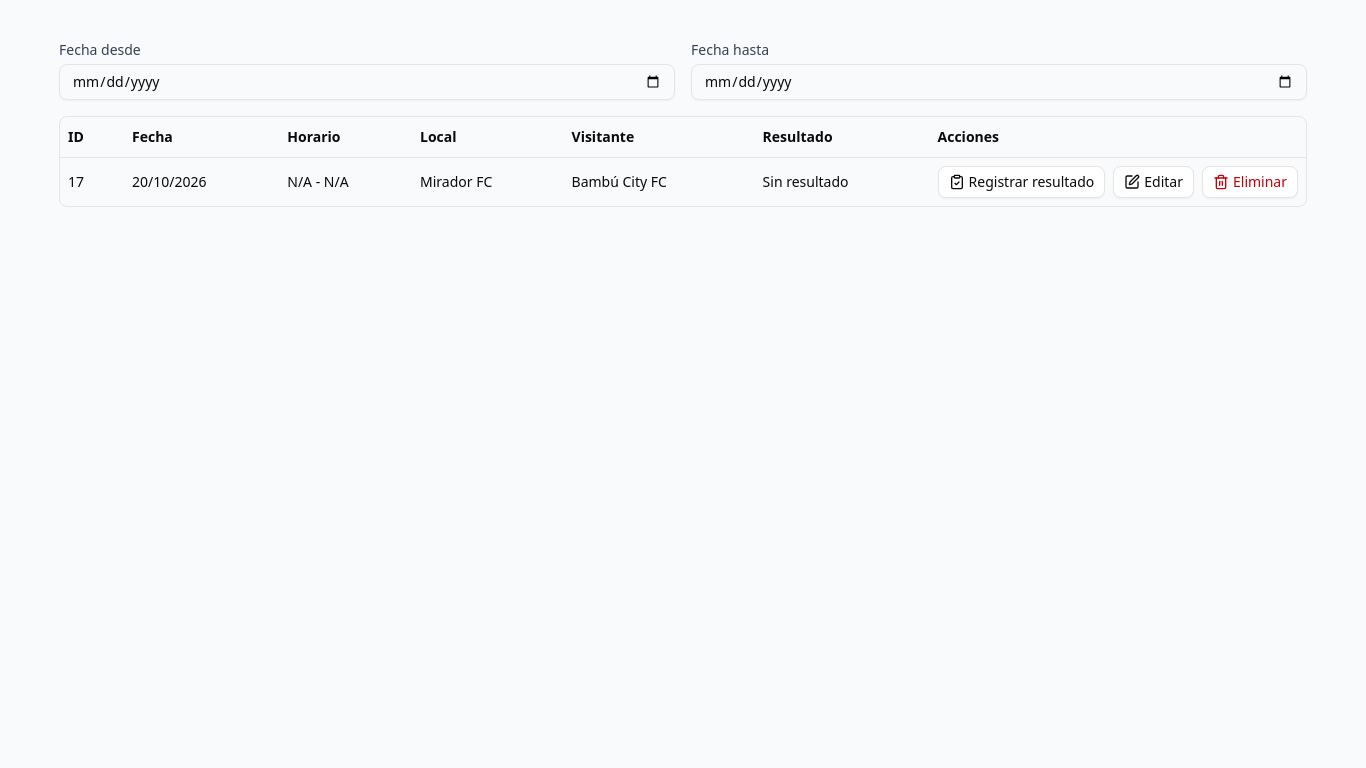
Test case: handles HTTP 403 without changing the result or discarding the entered score
Later steps or results of the test are not shown.
Click the button "Registrar resultado" at (1021, 182), box [938,166,1105,198]
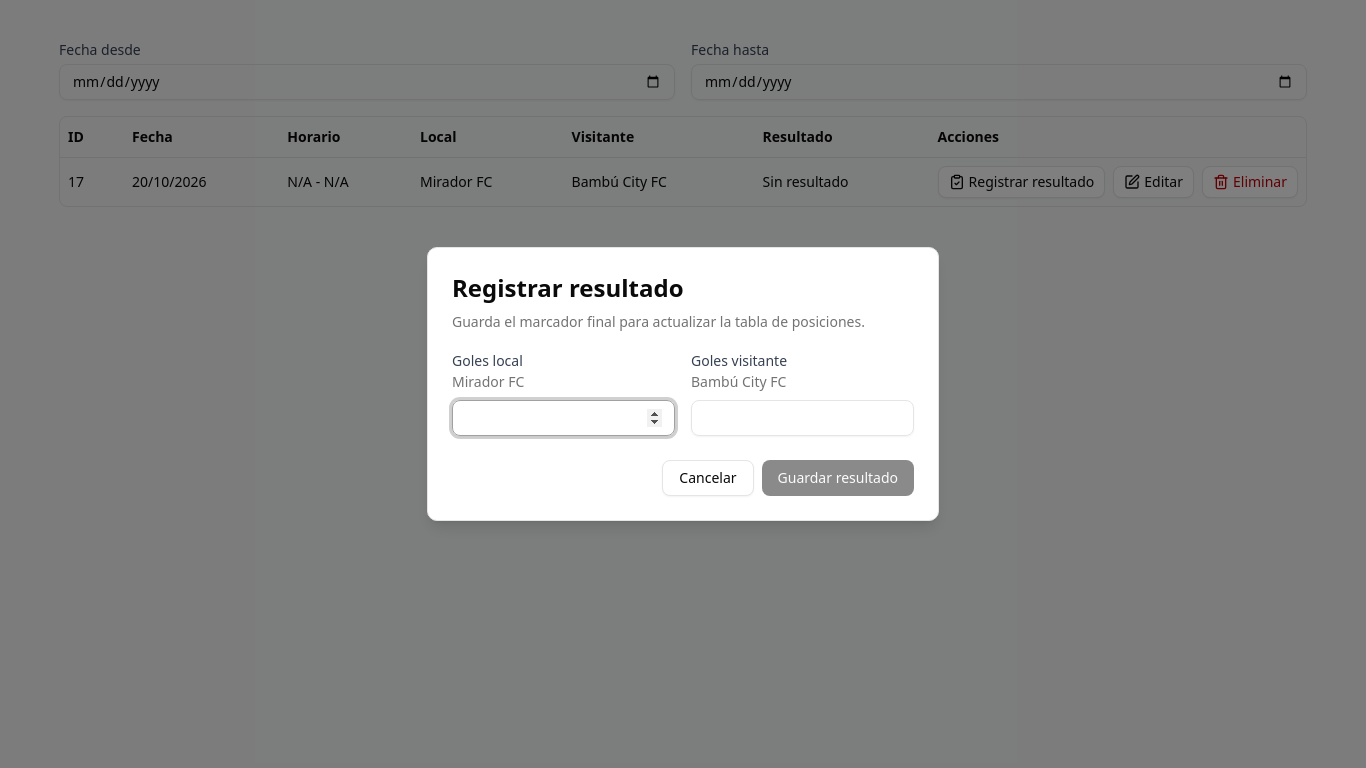
Expected: the text "Mirador FC" is shown, [452,372,524,391]
Expected: the text "Bambú City FC" is shown, [691,372,786,391]
Expected: the number field labelled "Goles local" is not empty
Type "2" into the number field labelled "Goles local" at (564, 418), box [452,400,675,436]
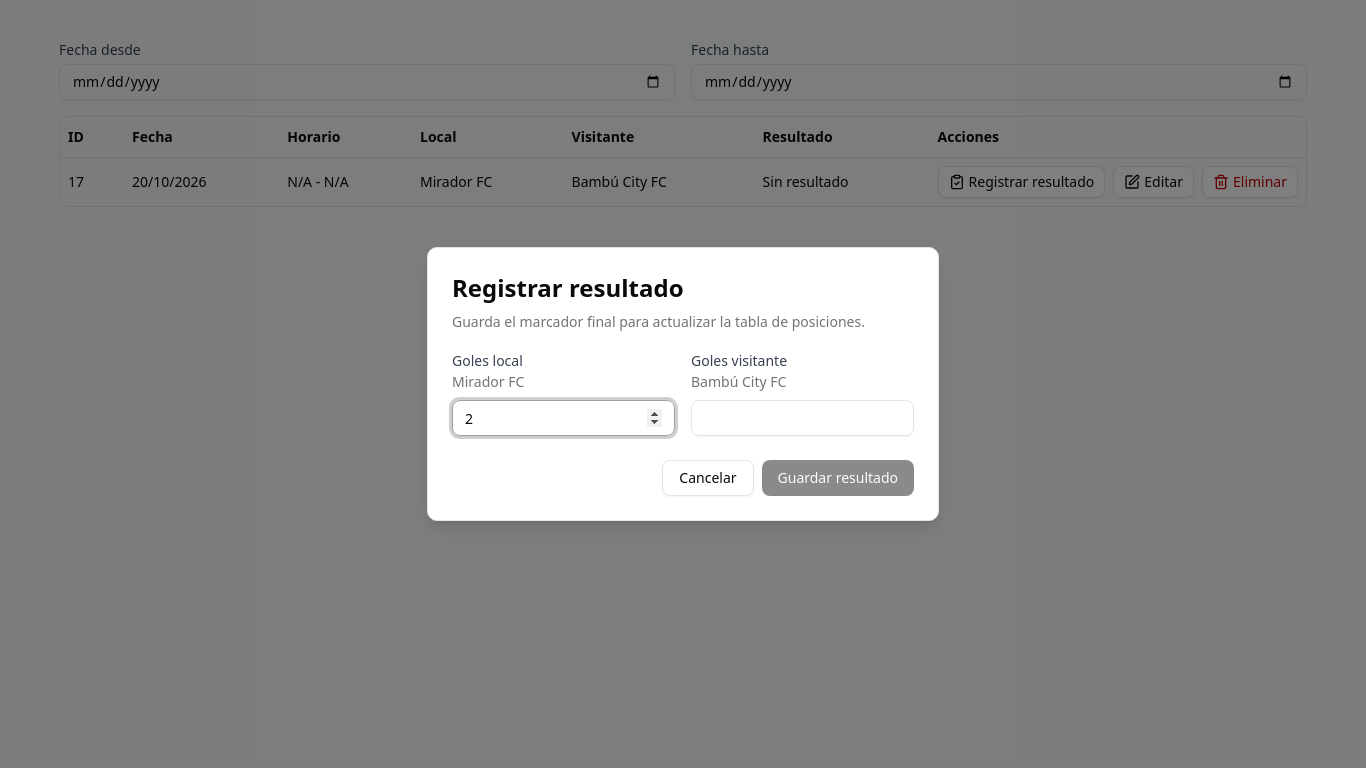
Type "0" into the number field labelled "Goles visitante" at (802, 418), box [691,400,914,436]
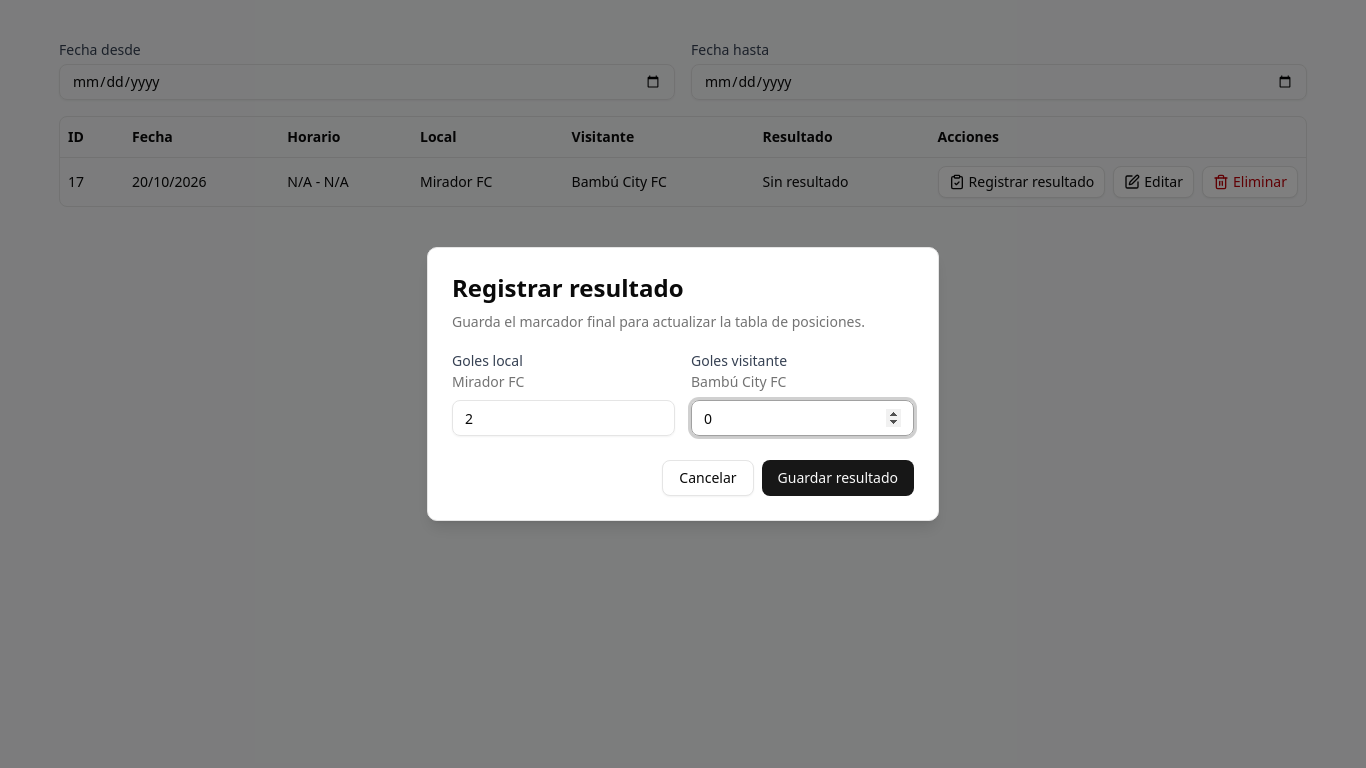
Click the button "Guardar resultado" at (838, 478), box [762,460,914,496]
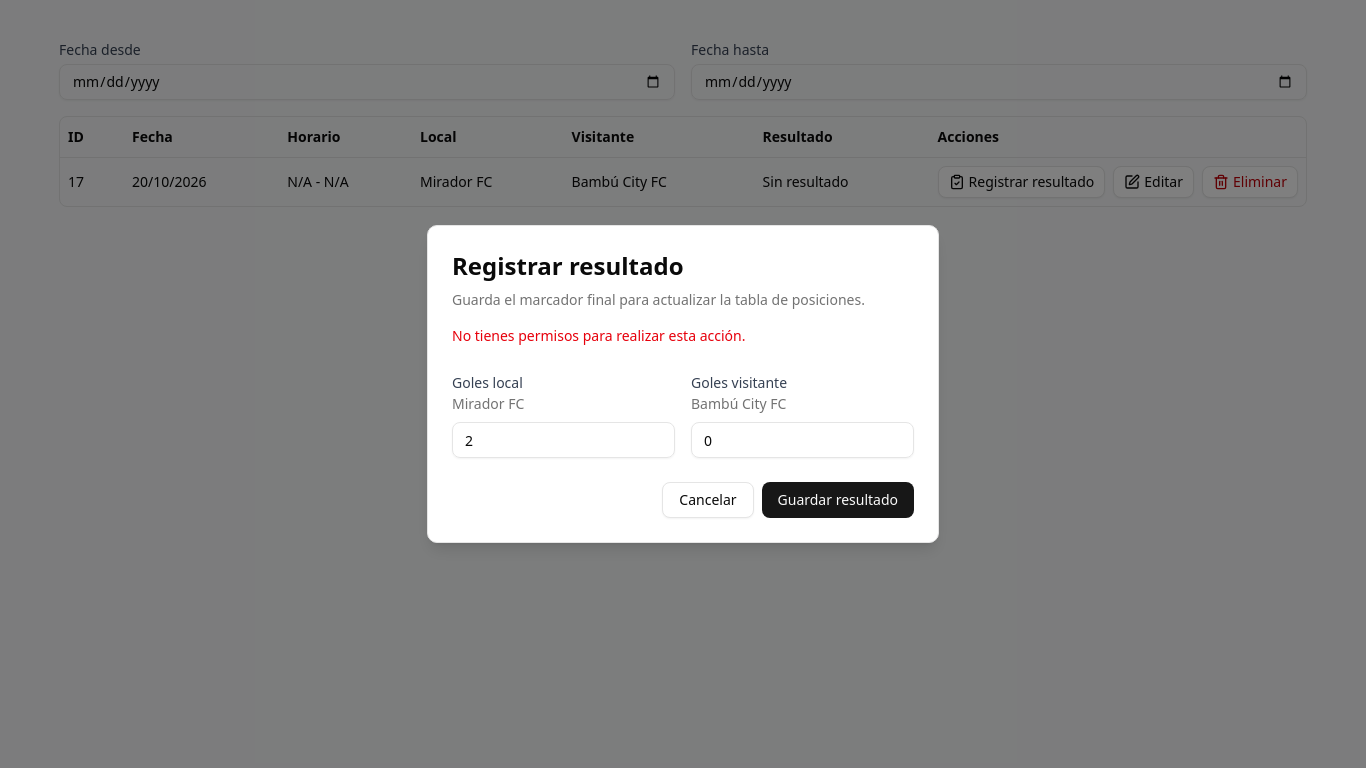
Expected: the button "Guardar resultado" is enabled, [762,482,914,518]
Expected: the message reads "No tienes permisos para realizar esta acción.", [452,326,746,345]
